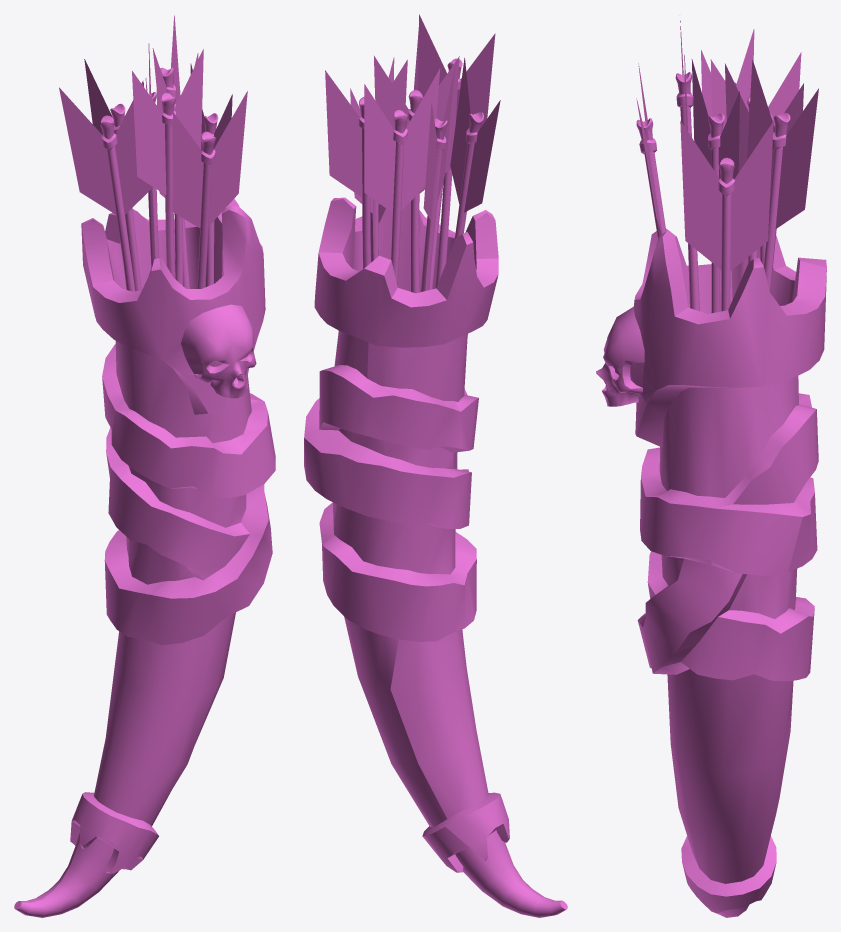
The model's file is SM_Undead_Quiver_3.fbx.
The picture shows the model from 3 angles, left to right: view 1: azimuth 30°, elevation 25°; view 2: azimuth 150°, elevation 25°; view 3: azimuth 270°, elevation 25°; orthographic projection. The views are drawn at different scales.
Parts seen in each view (by area): view 1: SM_Undead_Quiver_3; view 2: SM_Undead_Quiver_3; view 3: SM_Undead_Quiver_3.
Boxes of the visible parts, x1=… form: SM_Undead_Quiver_3: x1=14, y1=15, x2=275, y2=917; SM_Undead_Quiver_3: x1=304, y1=14, x2=567, y2=917; SM_Undead_Quiver_3: x1=596, y1=20, x2=826, y2=917.
Size of the model in its own units: 0.3562 by 1.15 by 0.2601.
